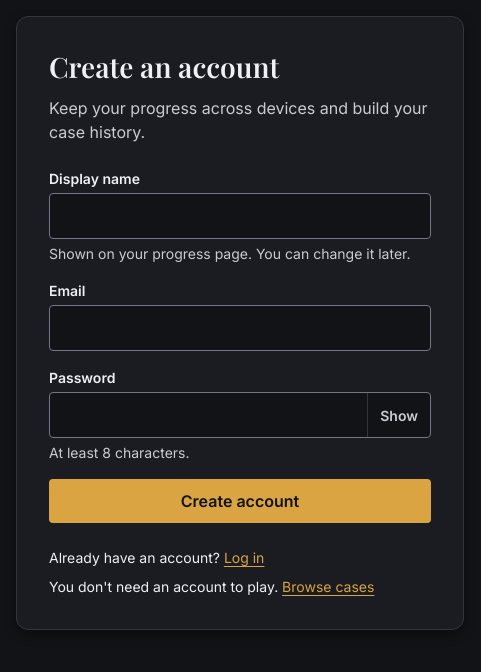
it: register view › maps server field errors onto the fields
Type "Sam" into the field labelled "Display name".
click(240, 216); type("Sam")  # box [50,194,430,238]
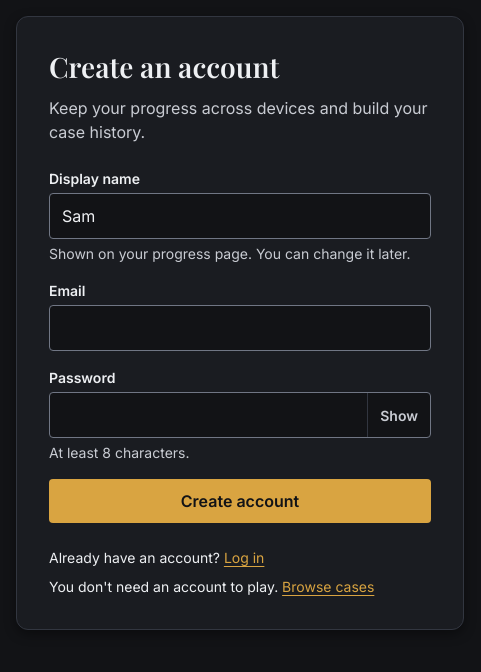
Type "sam@example.com" into the field labelled "Email".
click(240, 328); type("sam@example.com")  # box [50,306,430,350]
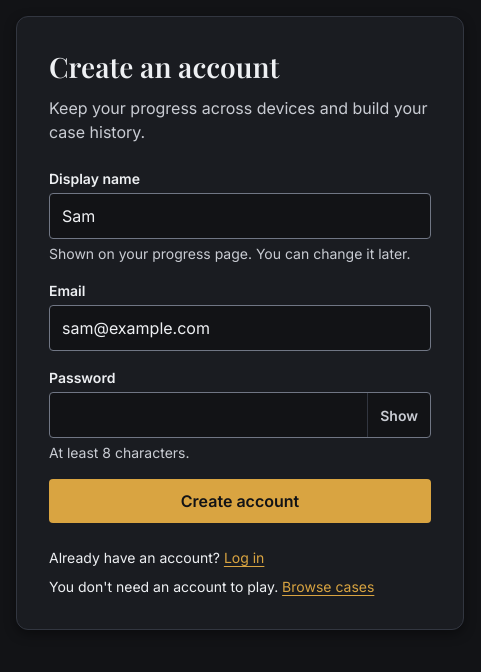
Type "a-long-password-1" into the password field labelled "Password".
click(209, 415); type("a-long-password-1")  # box [50,393,367,437]
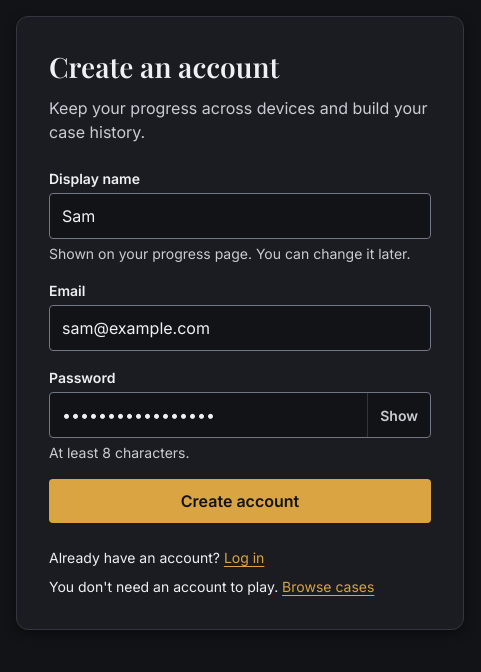
Submit the form, box [49,168,431,523]
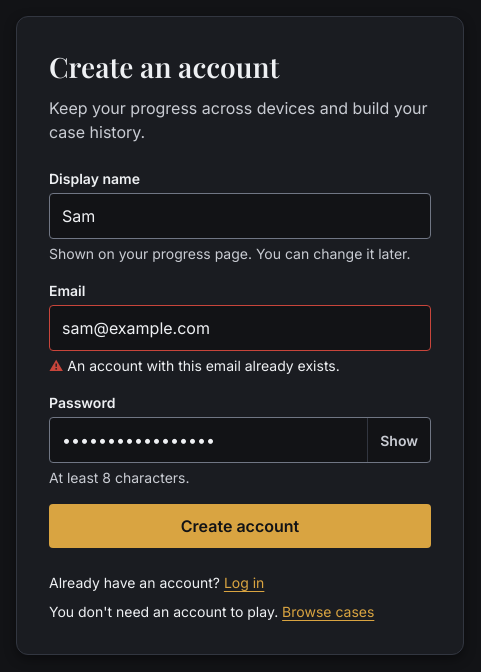
Now the text "An account with this email already exists." is shown, box [67,357,340,374]
